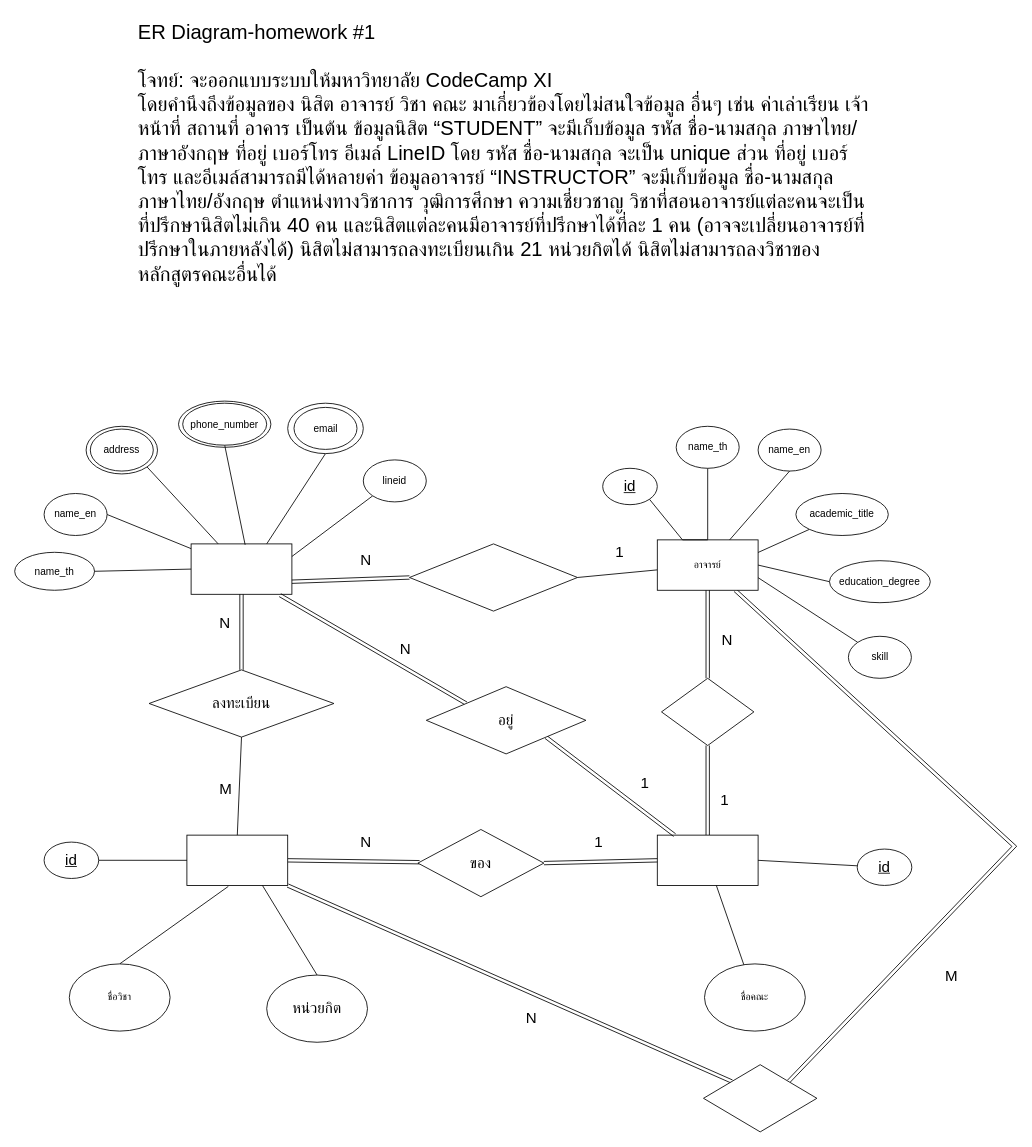
This 1032x1147 diagram has some shape labels left out. The shapes that lost their labels are listed below. From the top down, each one's centre as x and y in pixels, then its label:
point 241,568: นิสิต
point 493,577: ปรึกษา
point 707,711: อยู่2
point 237,860: วิชา
point 707,860: คณะ
point 760,1098: สอน
